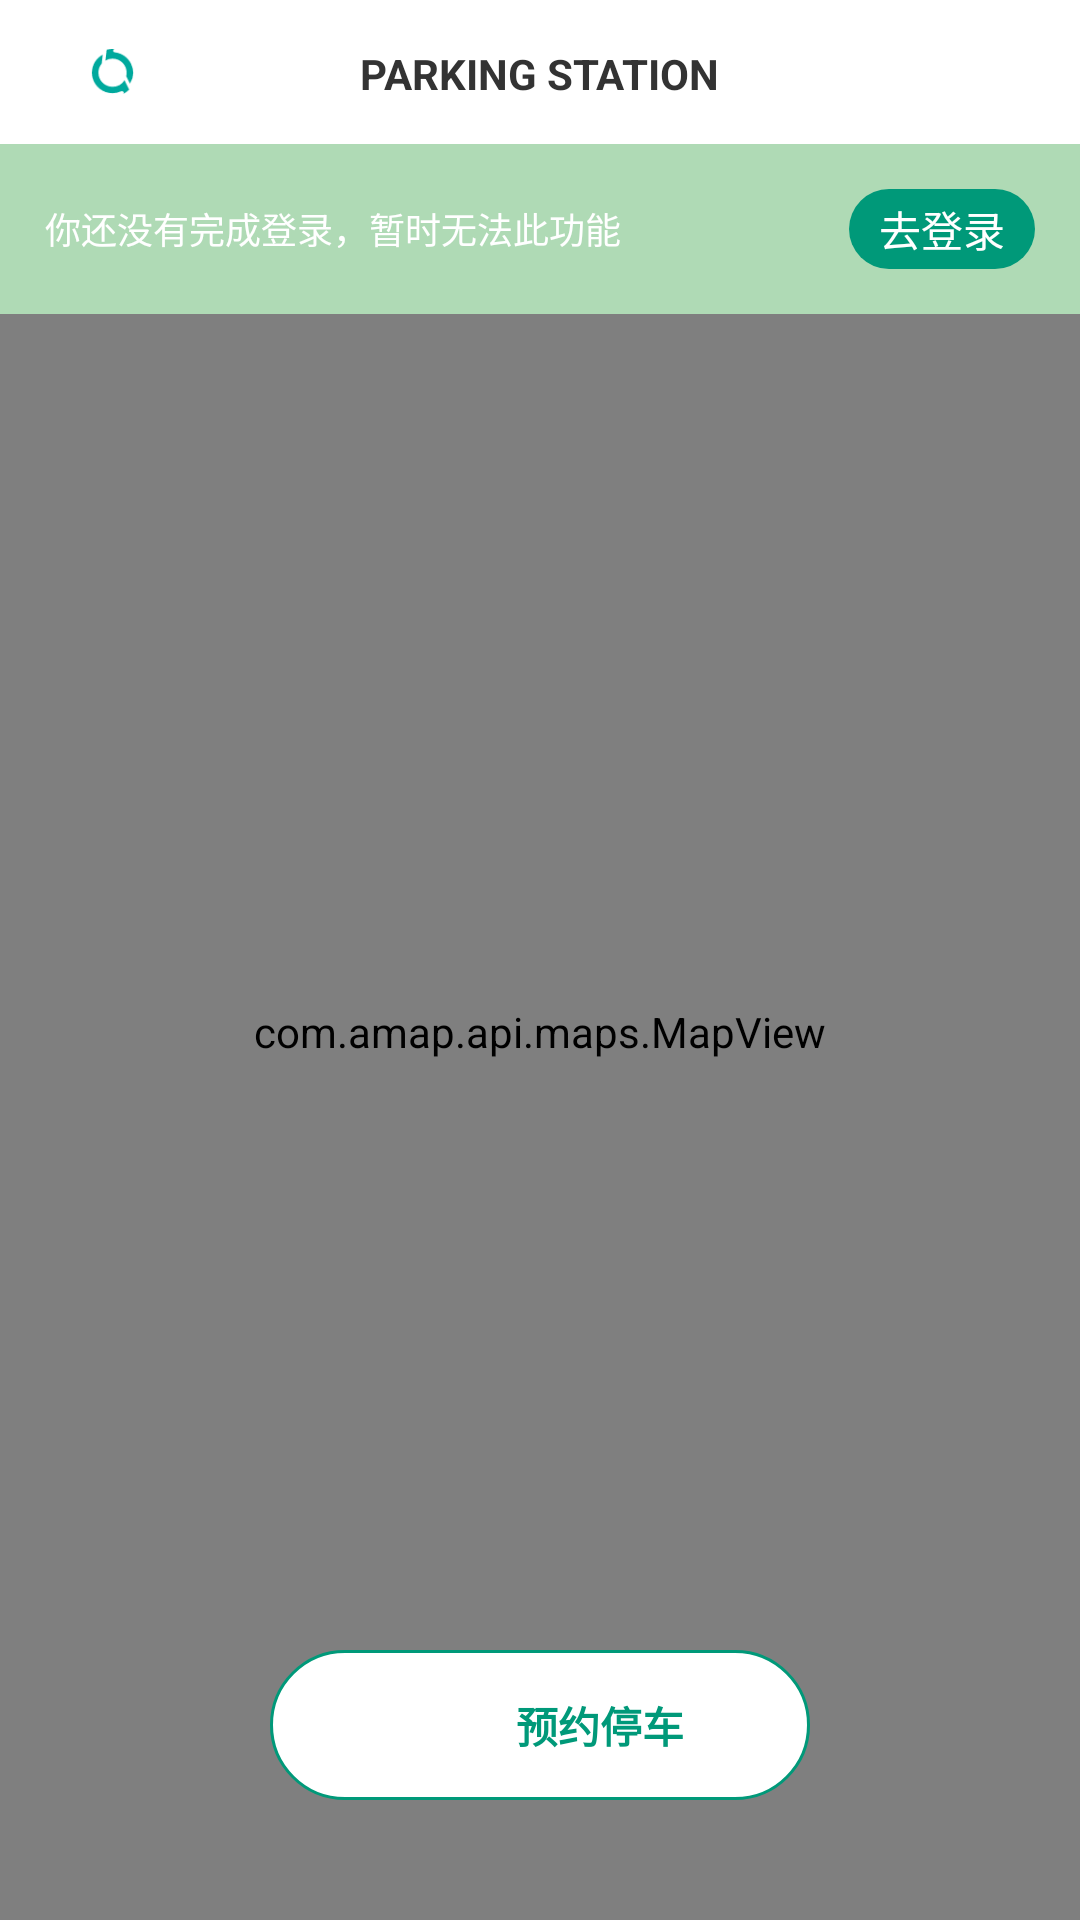

Icons on this 1080×1920 Android screen, each with the point to tap as point (x, y):
refresh: point (112, 71)
